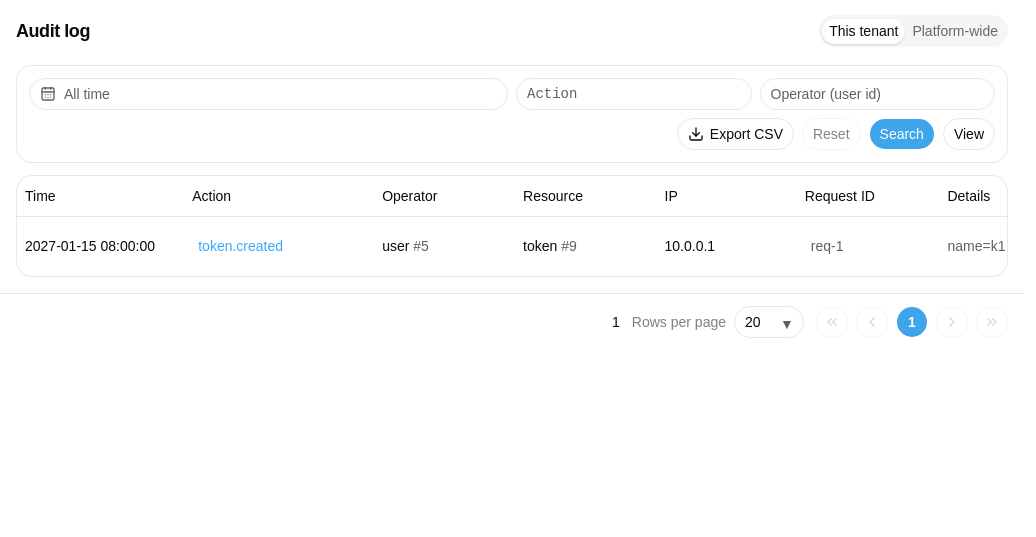
AuditLogPage › platform staff verify the chain and see a break
The image size is (1036, 537).
Click the tab "Platform-wide". click: (955, 31)
box: [905,18,1005,44]
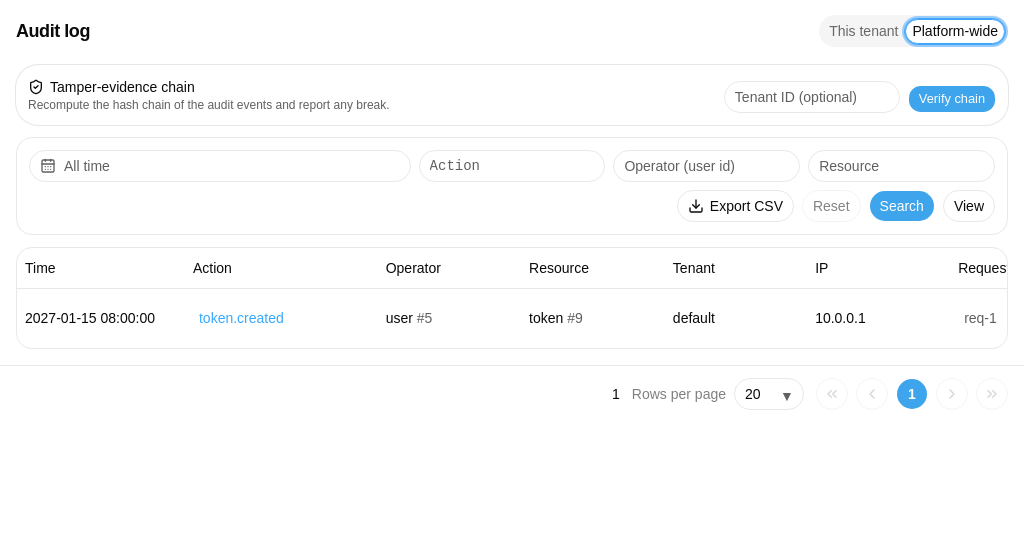
Click the button "Verify chain". click: (952, 99)
box: [908,85,996,113]
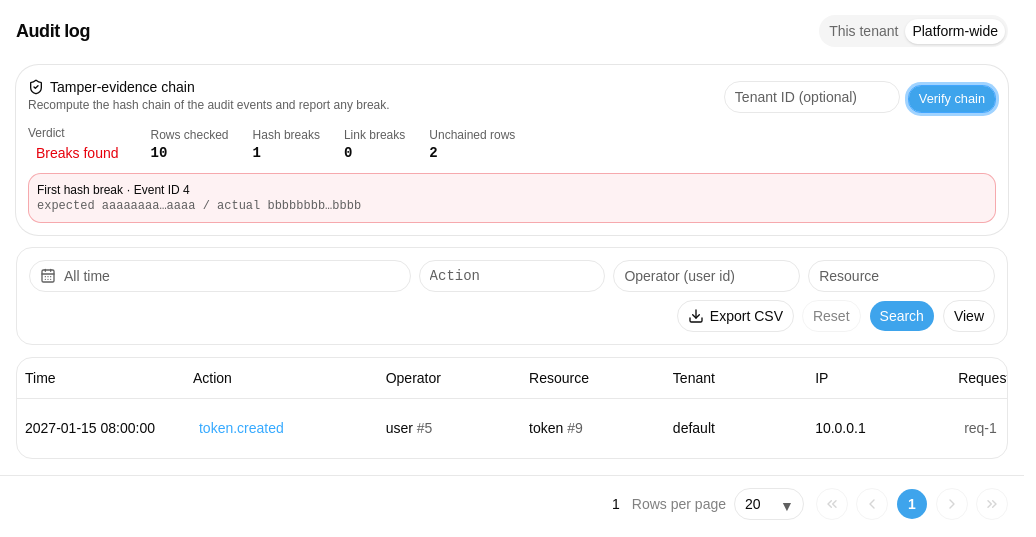
Now the element with test id "chain-verdict" shows "Breaks found", box [36,144,118,160]
Now the element with test id "chain-hash-breaks" shows "1", box [252,145,261,161]
